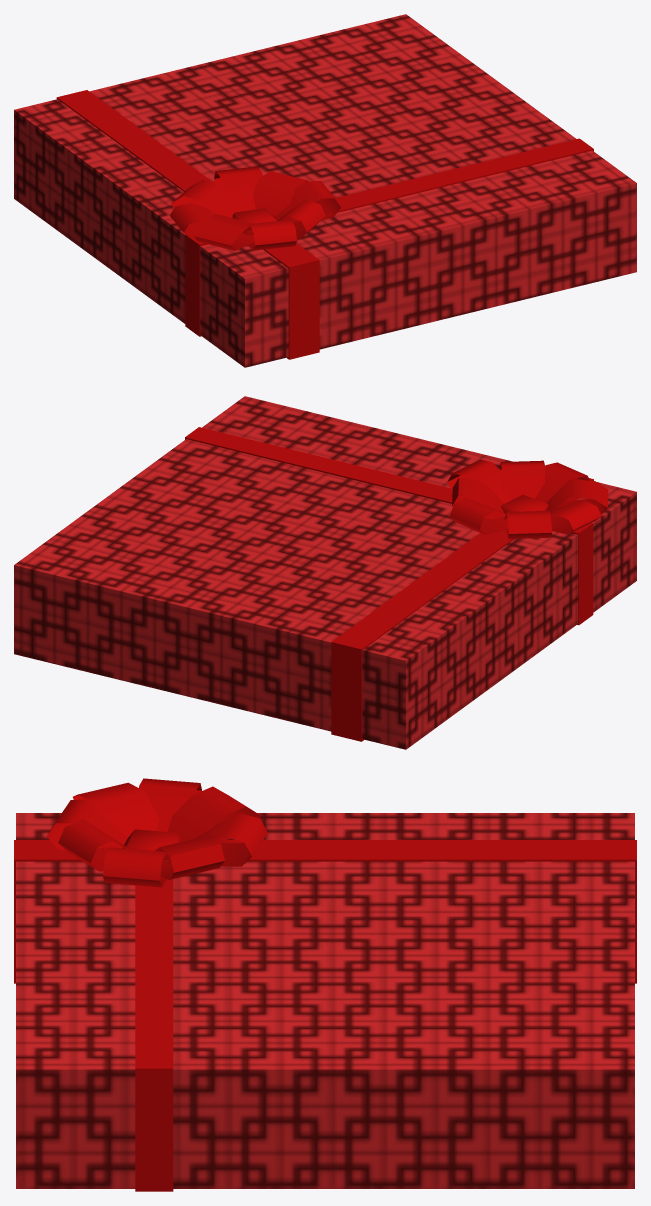
The model's file is christmas_present_07.fbx.
The picture shows the model from 3 angles, top to bottom: view 1: azimuth 30°, elevation 25°; view 2: azimuth 150°, elevation 25°; view 3: azimuth 270°, elevation 25°; orthographic projection. The views are drawn at different scales.
Parts seen in each view (by area): view 1: xmas-present_07; view 2: xmas-present_07; view 3: xmas-present_07.
Part boxes in pixels (bbox=[...]): xmas-present_07: bbox=[14, 14, 636, 367]; xmas-present_07: bbox=[14, 396, 636, 749]; xmas-present_07: bbox=[14, 778, 636, 1191].
Bounding box in the file's own units: 42.09 × 11.8 × 41.69.
